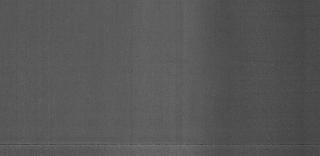welding line: (3, 138, 320, 150)
